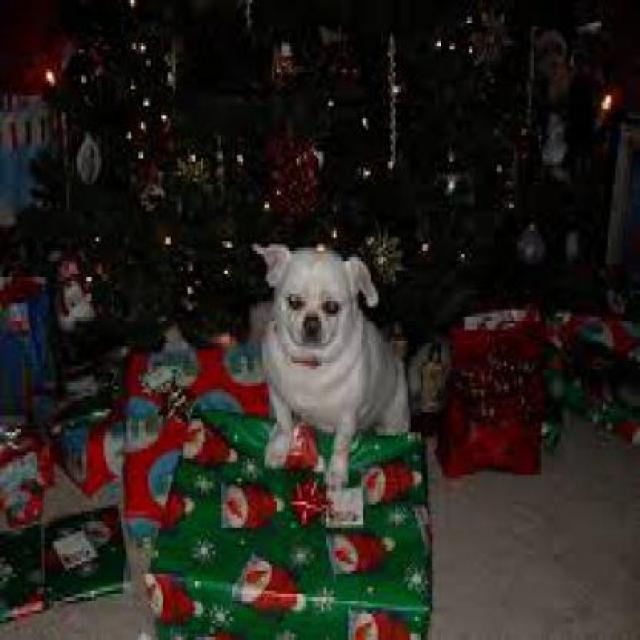Dog: (254, 236, 412, 490)
